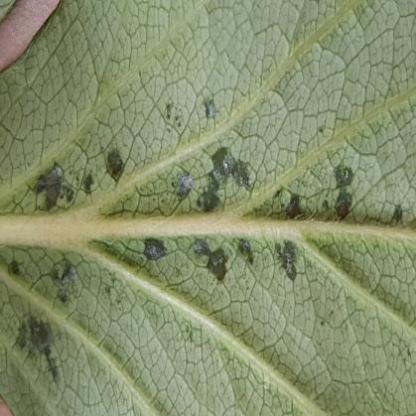Strawberry_Angular_LeafSpot: (0, 91, 414, 391)
